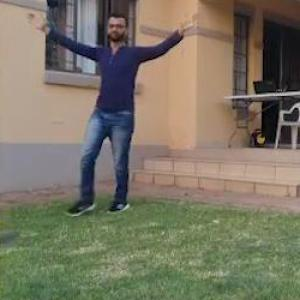takeoff: (34, 18, 208, 212)
